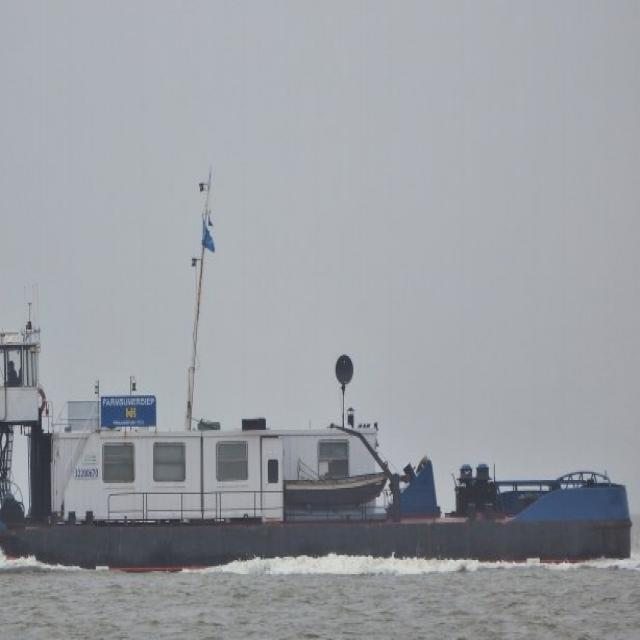tugboat: (1, 315, 639, 588)
